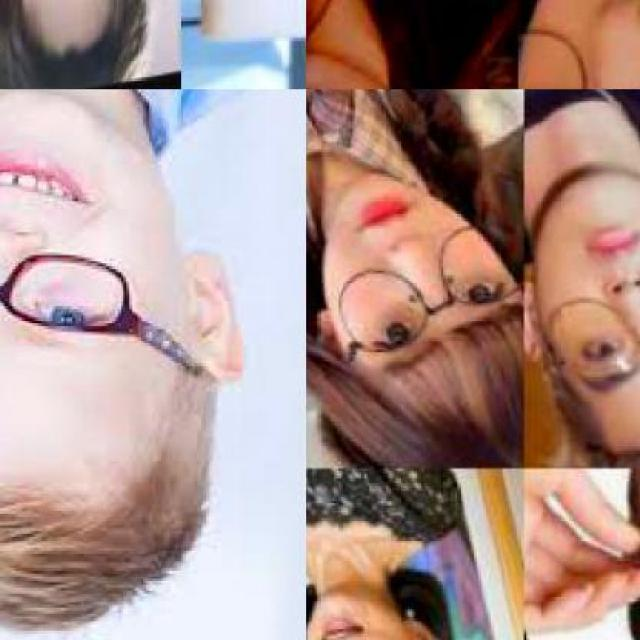mask: (309, 223, 517, 358), (0, 241, 158, 338), (523, 297, 640, 398)
